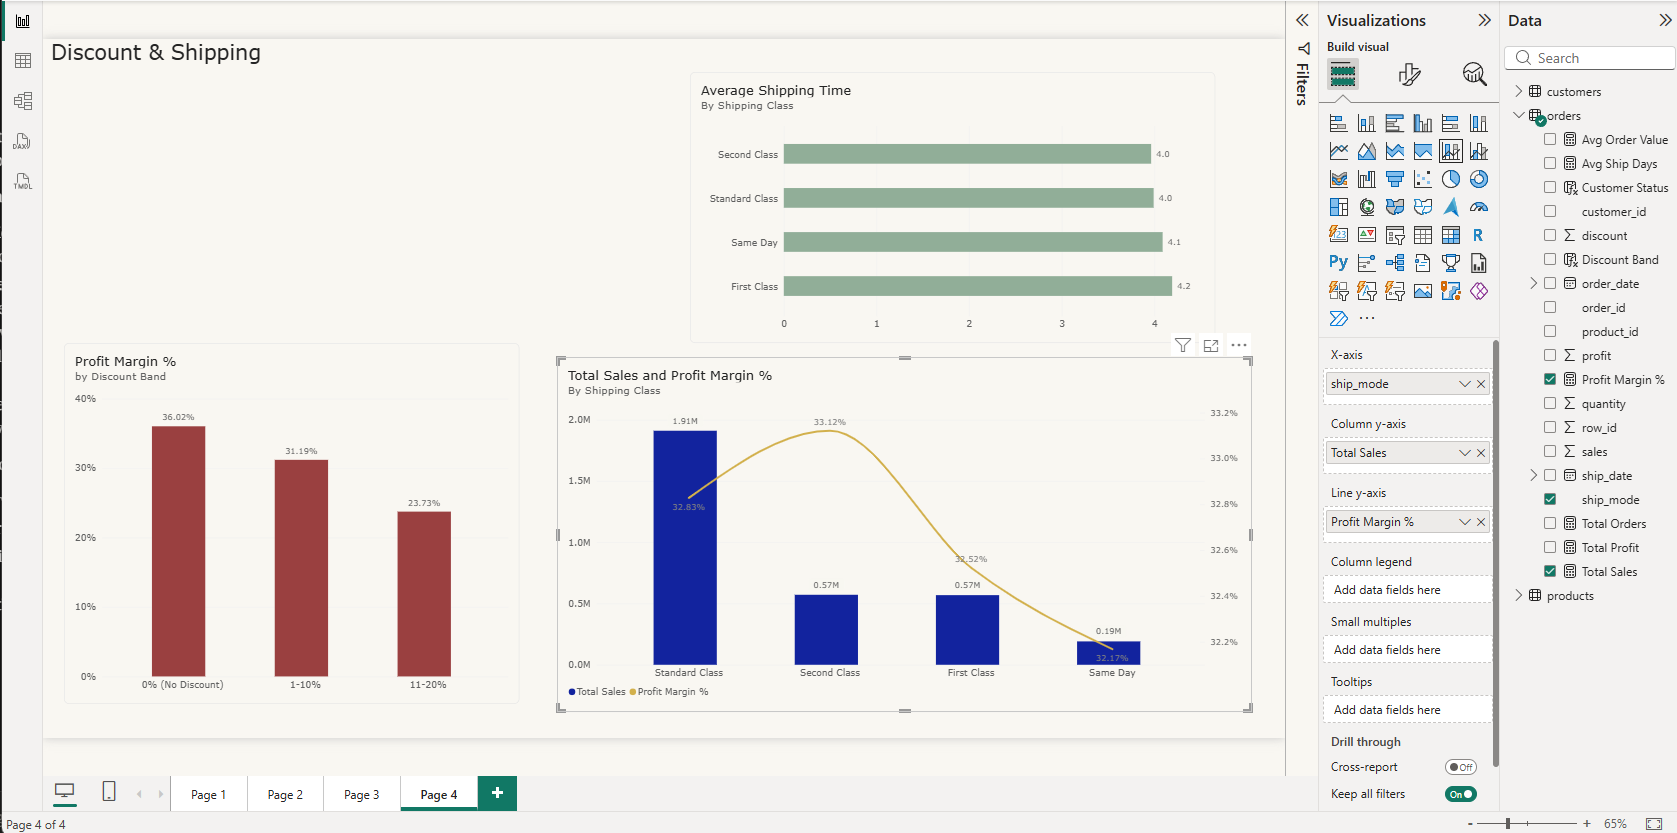

This screenshot's page, from the dashboard's own definition file:
{"tool":"powerbi","page":{"name":"Page 4","canvas":[1920,1080],"ordinal":3},"visuals":[{"type":"clusteredColumnChart","fields":{"Category":["orders.Discount Band"],"Y":["orders.Profit Margin %"]},"box":[521,24.7,463.8,431.3],"z":0},{"type":"textbox","box":[11.8,0,340.8,50.6],"z":1000},{"type":"clusteredBarChart","title":"Average Shipping Time","fields":{"Y":["orders.Avg Ship Days"],"Category":["orders.ship_mode"]},"box":[1017.2,24.7,873.4,418.9],"z":2000},{"type":"lineStackedColumnComboChart","title":"Total Sales and Profit Margin % ","fields":{"Category":["orders.ship_mode"],"Y2":["orders.Profit Margin %"],"Y":["orders.Total Sales"]},"box":[29.4,507.1,1861.3,550.3],"z":3000},{"type":"slicer","fields":{"Values":["orders.order_date"]},"box":[29.4,51,466.9,157.7],"z":4000},{"type":"slicer","fields":{"Values":["products.category"]},"box":[29.4,235,466.9,221.1],"z":5000}]}

Visuals, with their boxes on the page's 1920x1080 design canvas (x1, y1, x2, y2). These are canvas units, not pixel positions in the 1677x833 screenshot, which may show the page scaled, cropped or inside an application window:
clusteredColumnChart - orders.Discount Band x orders.Profit Margin %: (left=521, top=25, right=985, bottom=456)
textbox: (left=12, top=0, right=353, bottom=51)
"Average Shipping Time" clusteredBarChart: (left=1017, top=25, right=1891, bottom=444)
"Total Sales and Profit Margin % " lineStackedColumnComboChart: (left=29, top=507, right=1891, bottom=1057)
slicer - orders.order_date: (left=29, top=51, right=496, bottom=209)
slicer - products.category: (left=29, top=235, right=496, bottom=456)
